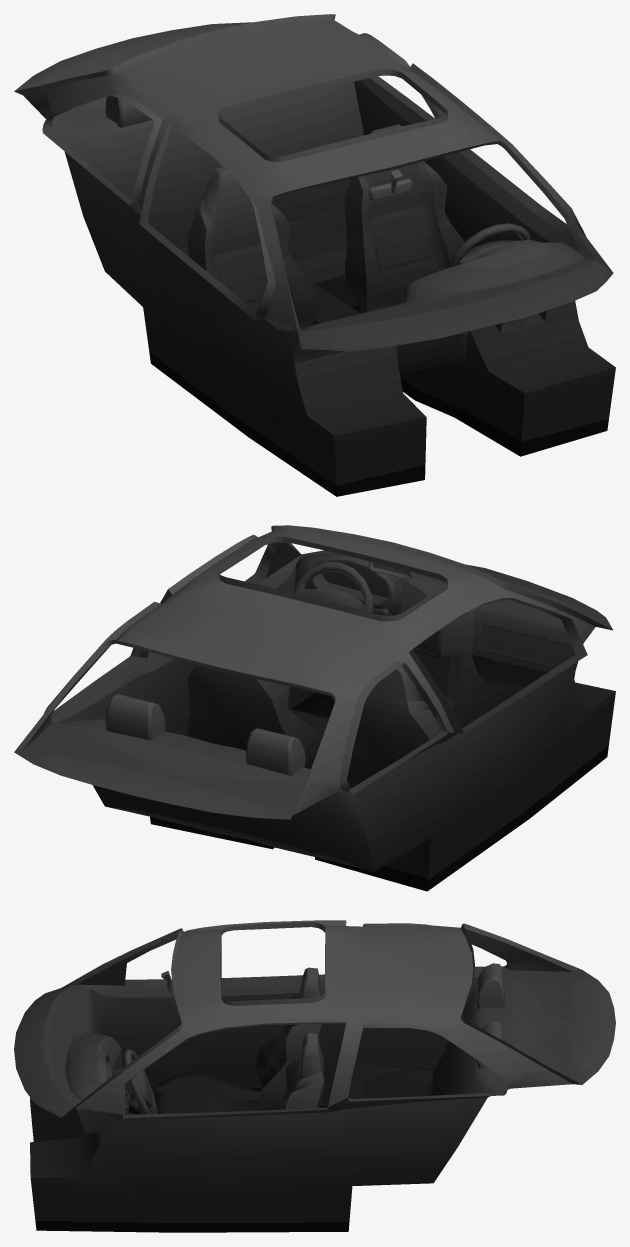
The model's file is misc_tier_s.fbx.
3 views of the same model, one above another, from view 1: azimuth 30°, elevation 25°; view 2: azimuth 150°, elevation 25°; view 3: azimuth 270°, elevation 25° (orthographic). The views are drawn at different scales.
Parts seen in each view (by area): view 1: E36_Car_interior_tier_s; view 2: E36_Car_interior_tier_s; view 3: E36_Car_interior_tier_s.
Part boxes in pixels (left/top/right/bottom): E36_Car_interior_tier_s: left=14, top=14, right=615, bottom=496; E36_Car_interior_tier_s: left=14, top=525, right=615, bottom=891; E36_Car_interior_tier_s: left=14, top=920, right=615, bottom=1232.
Size of the model in its own units: 1.48 by 1.09 by 2.72.
